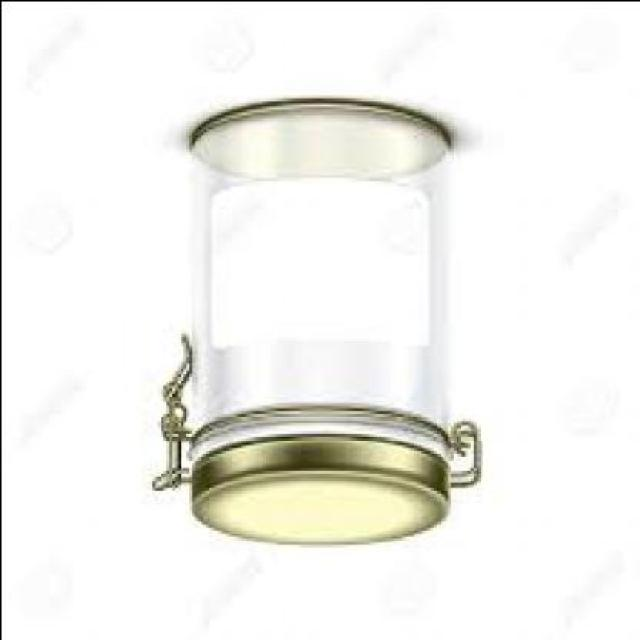GLASS: (191, 102, 452, 461)
METAL: (197, 439, 452, 546)
